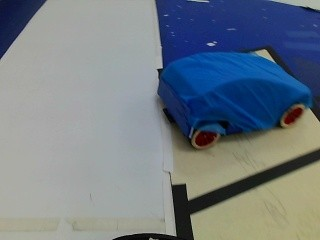car: (150, 49, 315, 147)
